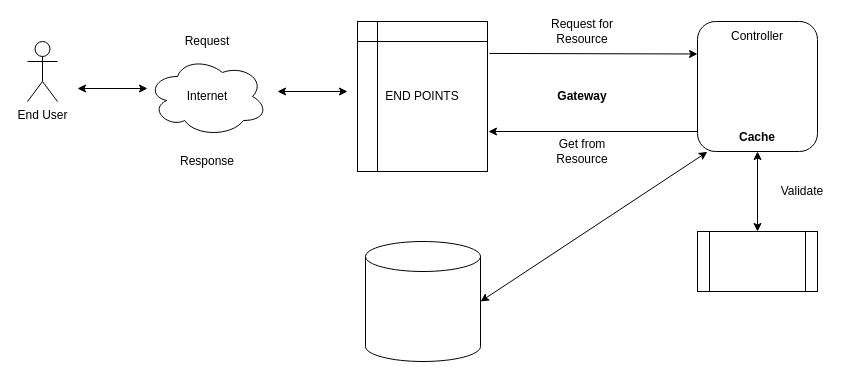
Image size: 854x379. Some labels were removed from this diagram. The box of each missing label's shape, as (x1, y1, x2, y2) in pixels:
Authentication: (696, 230, 818, 292)
Data Model: (364, 240, 480, 362)
